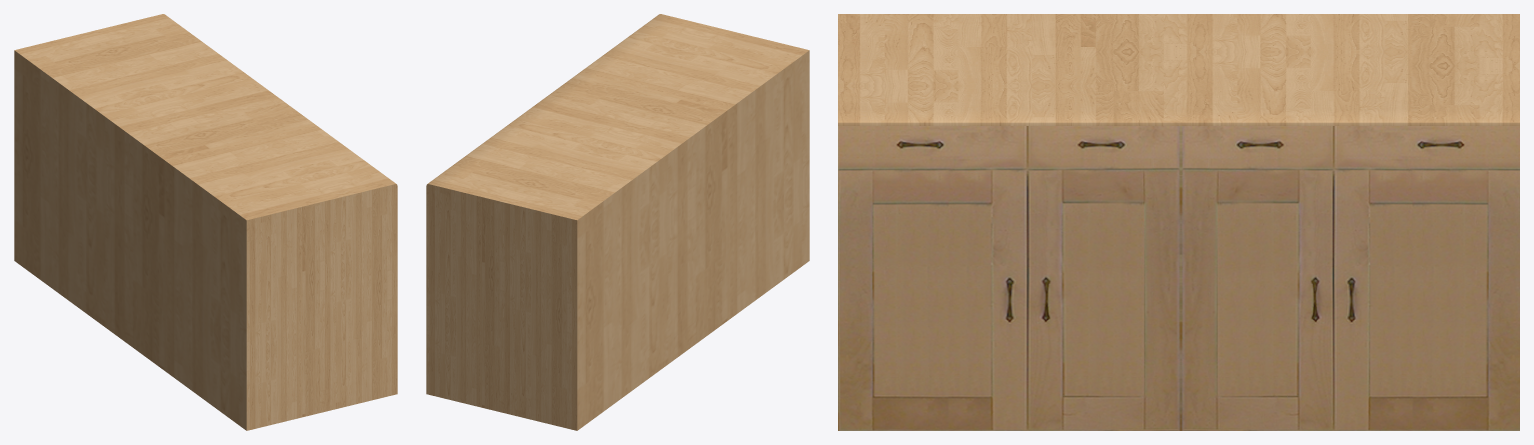
File: KitchenCabinet.FBX
The picture shows the model from 3 angles, left to right: view 1: azimuth 30°, elevation 25°; view 2: azimuth 150°, elevation 25°; view 3: azimuth 270°, elevation 25°; orthographic projection. The views are drawn at different scales.
Parts seen in each view (by area): view 1: Sink_Cabinet; view 2: Sink_Cabinet; view 3: Sink_Cabinet.
Boxes of the visible parts, bbox=[...] form: Sink_Cabinet: bbox=[14, 14, 397, 430]; Sink_Cabinet: bbox=[426, 14, 809, 430]; Sink_Cabinet: bbox=[838, 14, 1519, 430].
Size of the model in its own units: 60 by 80 by 160.
1 material, 1 textured.
